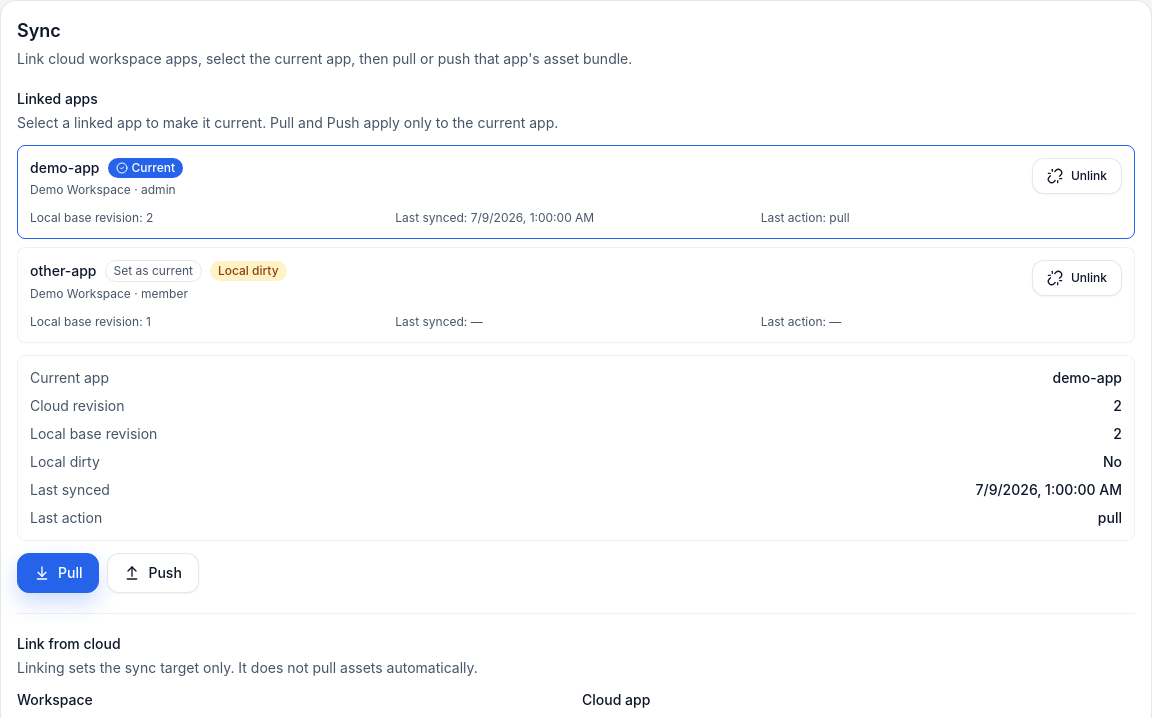
Test case: CloudSyncCard › opens revision conflict modal and supports force push
Click the button "Push" at (153, 573), box [108,553,199,593]
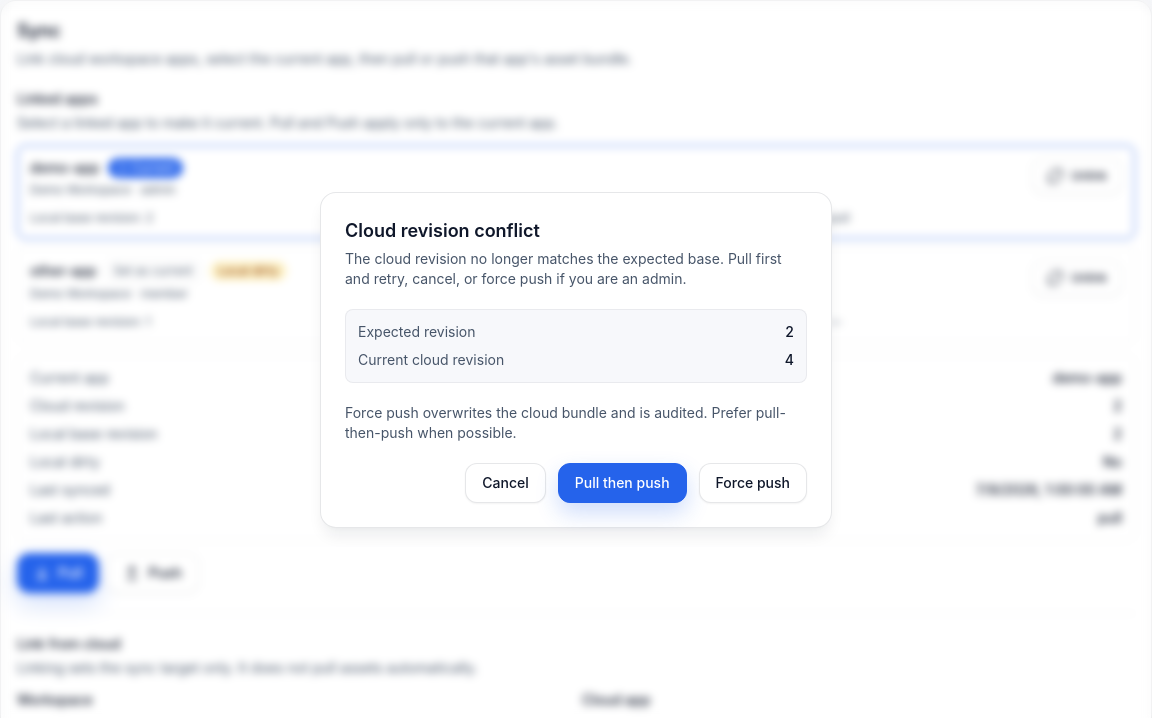
Expected: the text "Cloud revision conflict" is shown, [345,220,540,241]
Expected: the text "Force push" is shown, [345,250,782,287]
Click the button "Force push" at (753, 483), box [699,463,807,503]
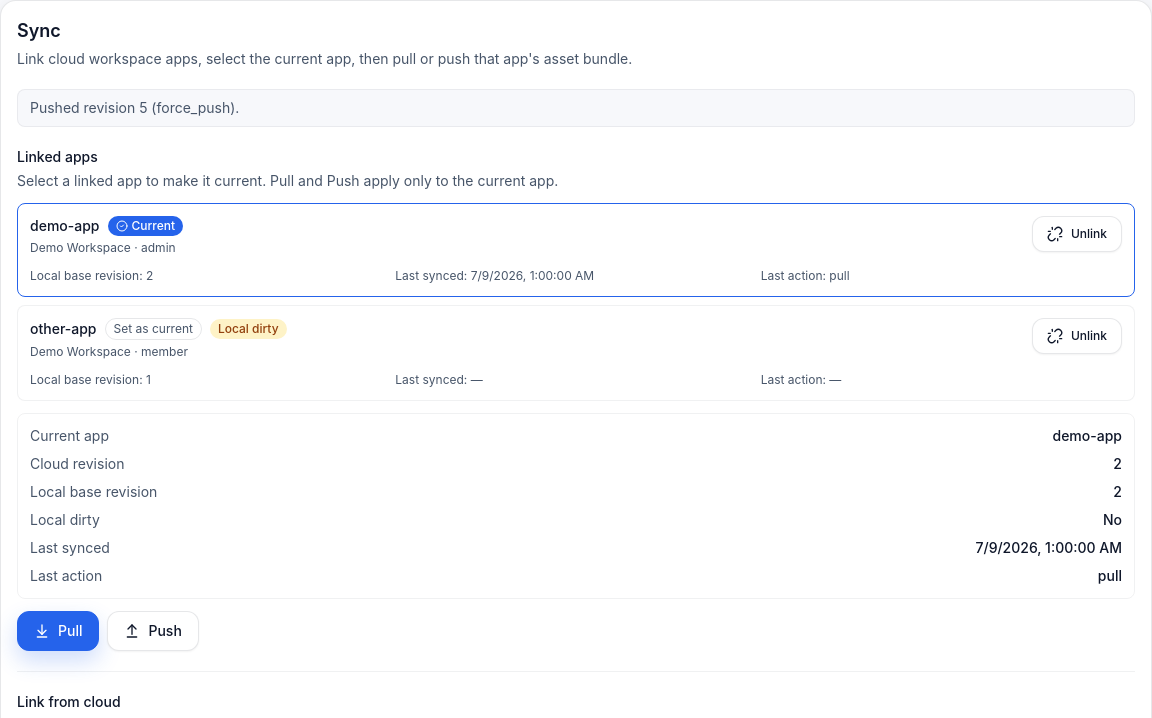
Expected: the text "Pushed revision 5" is shown, [30,99,239,116]
